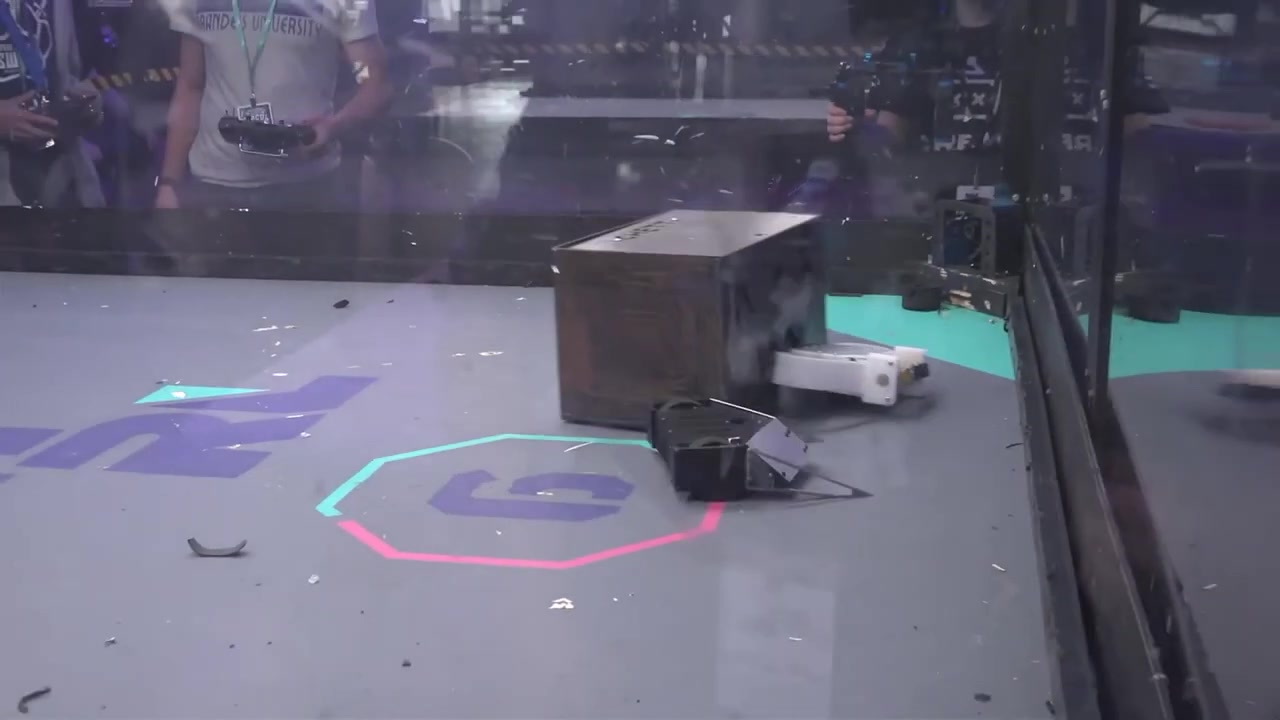combatbot: (652, 398, 809, 497), (768, 336, 935, 412)
debris: (183, 533, 252, 561), (332, 296, 351, 312)
housebot: (553, 208, 823, 441)
wheel: (897, 277, 944, 315)
